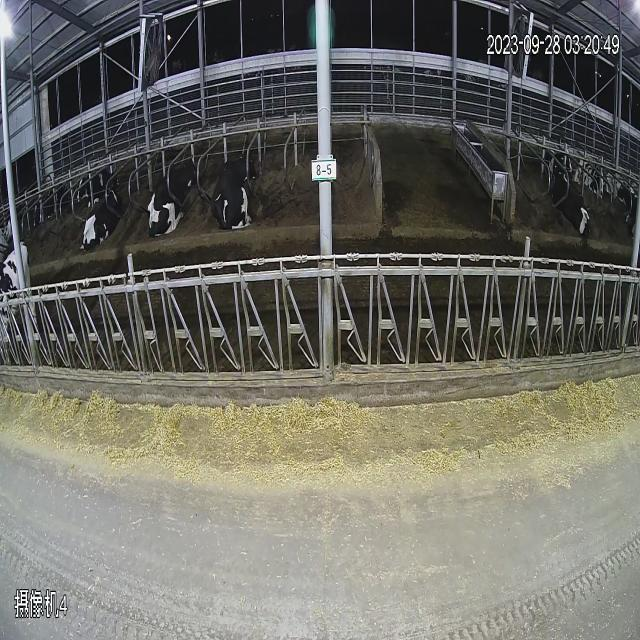feeding: (0, 220, 46, 386)
lying down: (210, 138, 270, 254), (146, 150, 200, 242), (76, 177, 132, 256), (552, 164, 601, 243), (74, 156, 117, 210)
